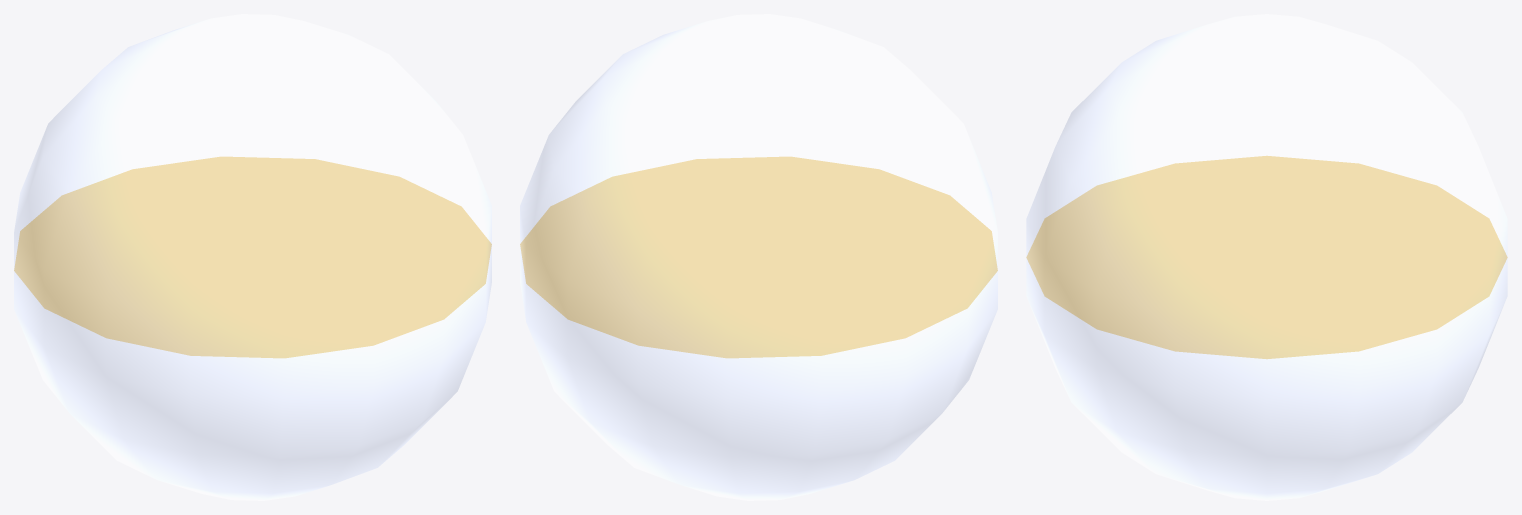
File: marble-center-high.glb
3 renders of one model, left to right at view 1: azimuth 30°, elevation 25°; view 2: azimuth 150°, elevation 25°; view 3: azimuth 270°, elevation 25°, orthographic.
Visible parts, largest first — view 1: (%ignore), marble-center-high; view 2: (%ignore), marble-center-high; view 3: (%ignore), marble-center-high.
Part boxes in pixels (bbox=[...]): (%ignore): bbox=[14, 14, 491, 500]; marble-center-high: bbox=[14, 156, 491, 358]; (%ignore): bbox=[520, 14, 997, 500]; marble-center-high: bbox=[520, 156, 997, 358]; (%ignore): bbox=[1026, 14, 1507, 500]; marble-center-high: bbox=[1026, 156, 1507, 358].
Bounding box in the file's own units: 0.3939 × 0.4 × 0.3939.
